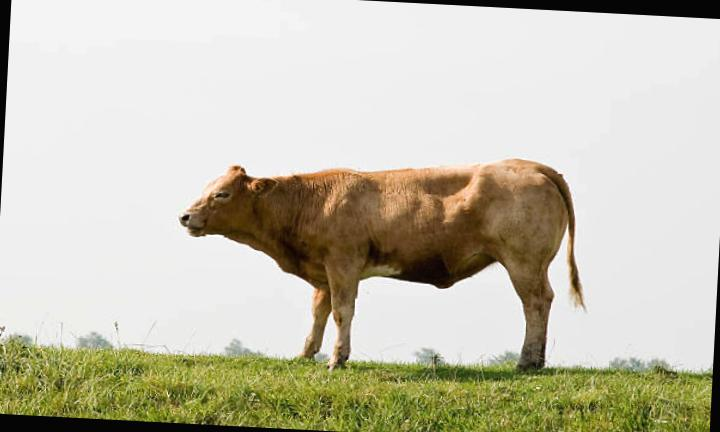Charolais: (180, 158, 583, 367)
